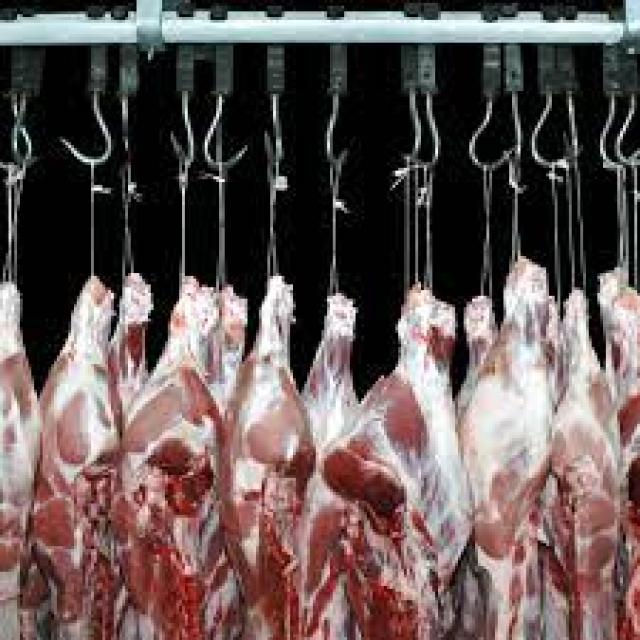Organik: (1, 259, 640, 640)
